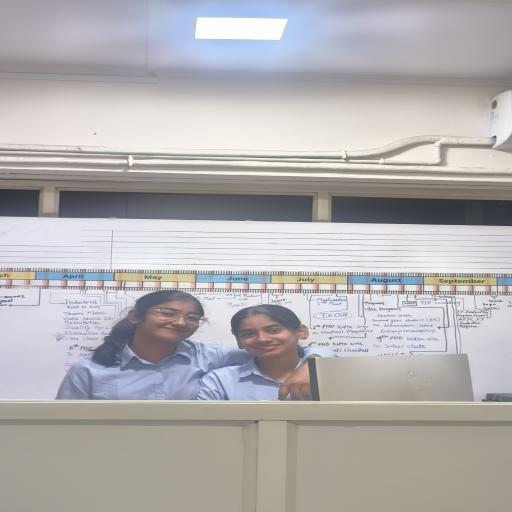survivor: (54, 289, 253, 401), (196, 304, 341, 402)
